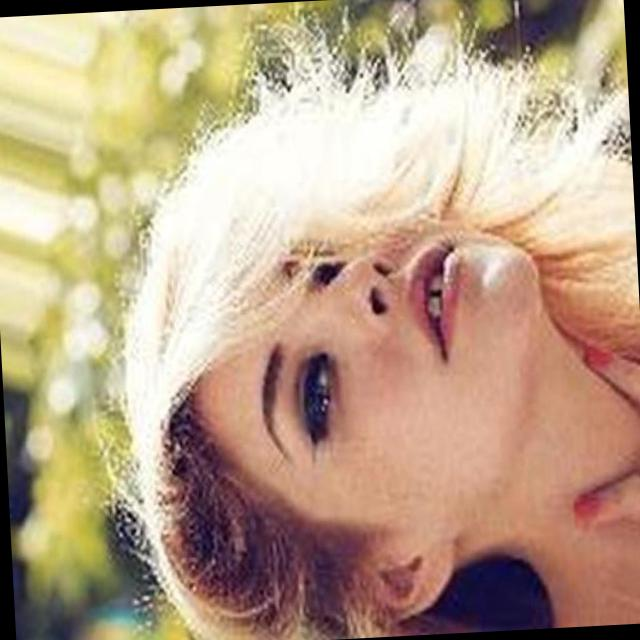bareface: (155, 194, 564, 609)
